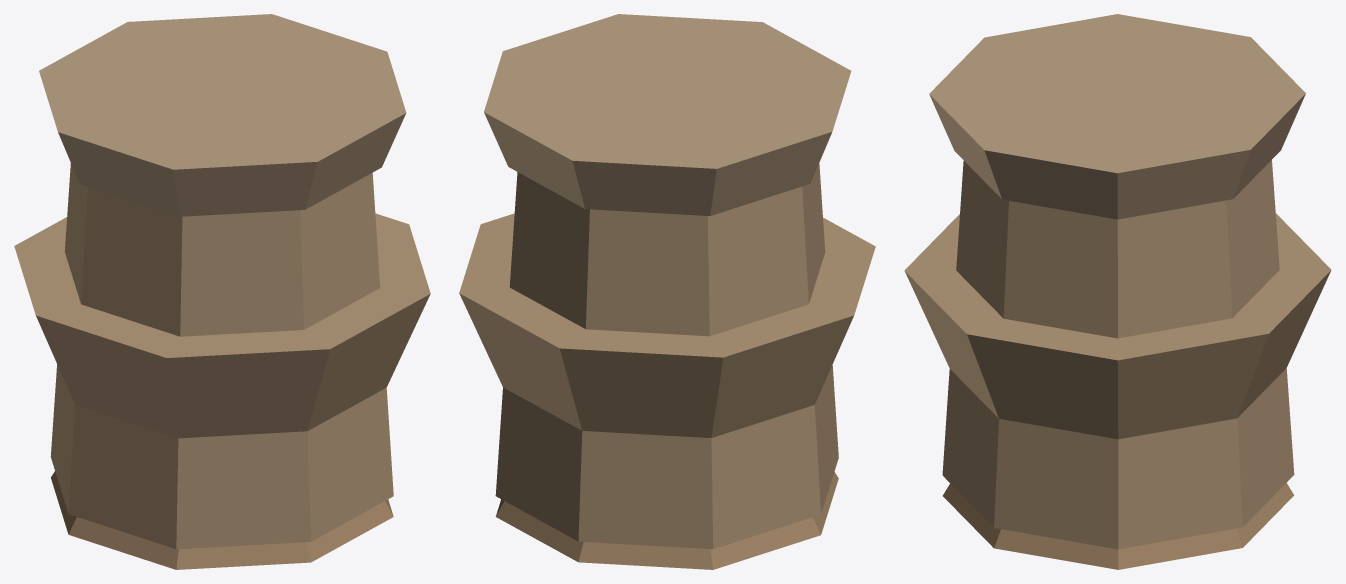
The model's file is clay_pot_v0.glb.
3 renders of one model, left to right at view 1: azimuth 30°, elevation 25°; view 2: azimuth 150°, elevation 25°; view 3: azimuth 270°, elevation 25°, orthographic.
Visible parts, largest first — view 1: world; view 2: world; view 3: world.
Boxes of the visible parts, x1,y1,x2,y2 form: world: (14,14,430,569); world: (459,14,875,569); world: (904,14,1331,569).
Bounding box in the file's own units: 0.9617 × 1 × 0.9617.
